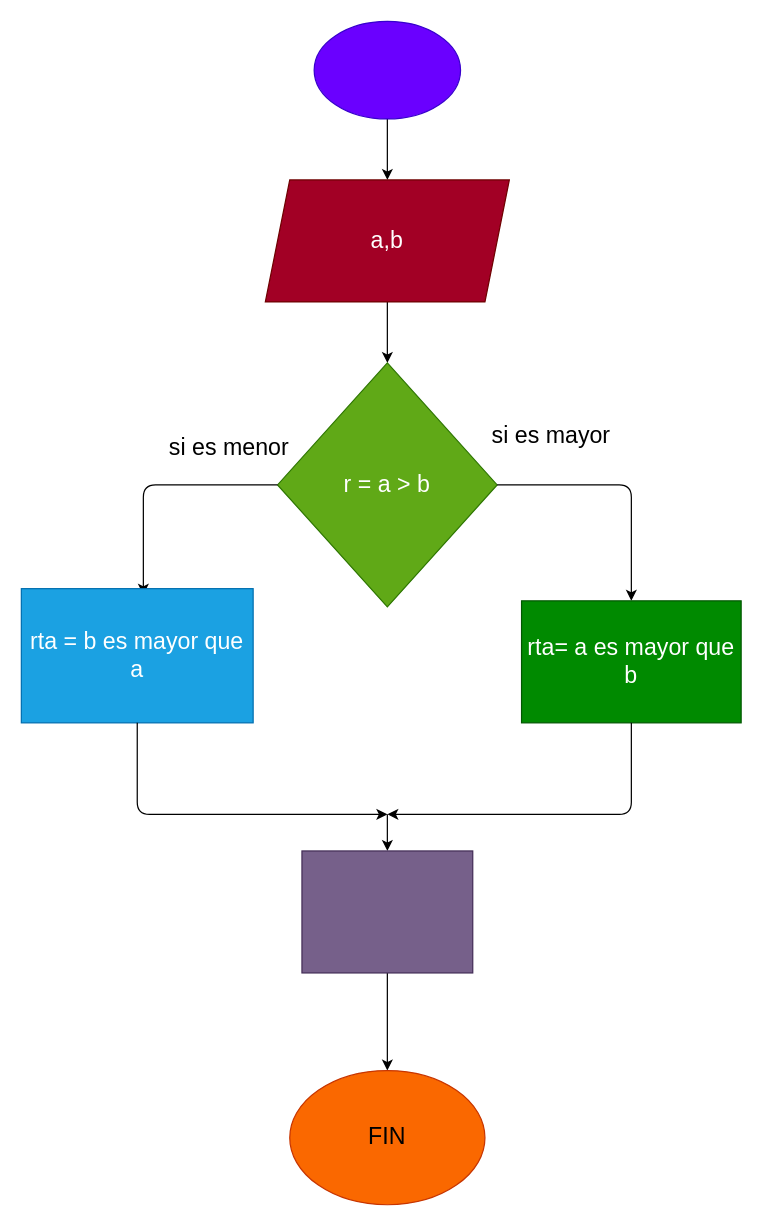
The diagram is 763 pixels wide and 1226 high, and some of its shapes have lost their labels. The shapes that lost their labels are listed below. From the top down, each one's box as (x1, y1, x2, y2) in pixels, then its label:
(313, 20, 461, 119): INICIO
(301, 850, 473, 973): rta
